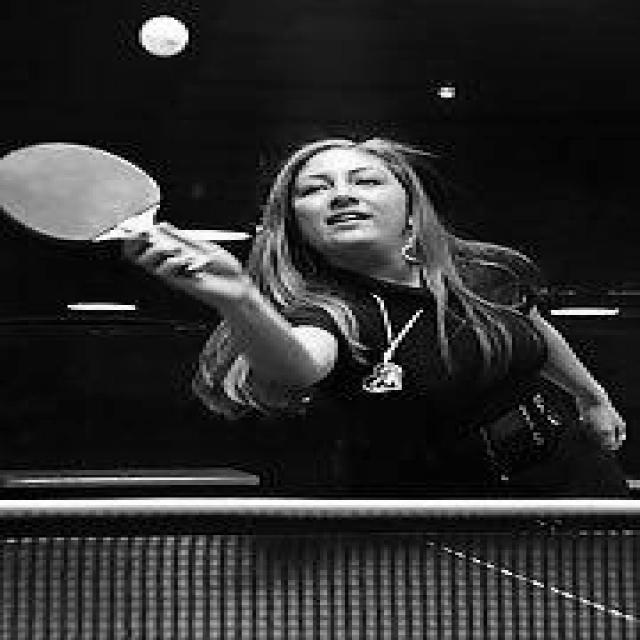ping-pong-ball: (138, 15, 192, 58)
